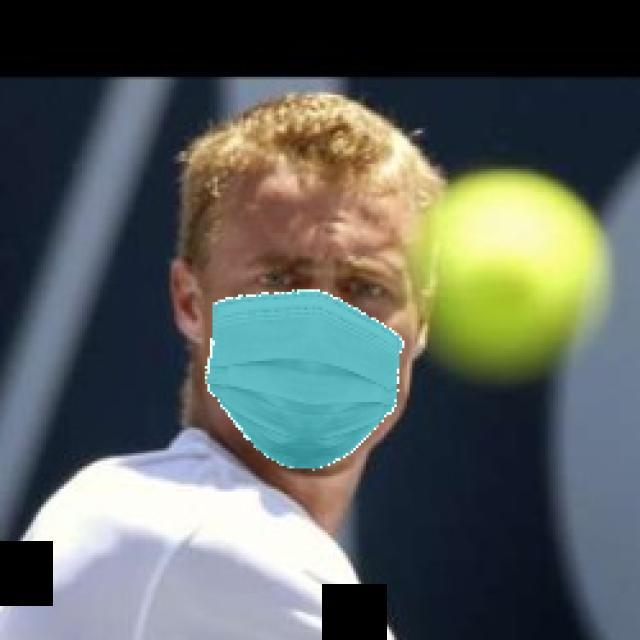surgical: (184, 205, 413, 467)
